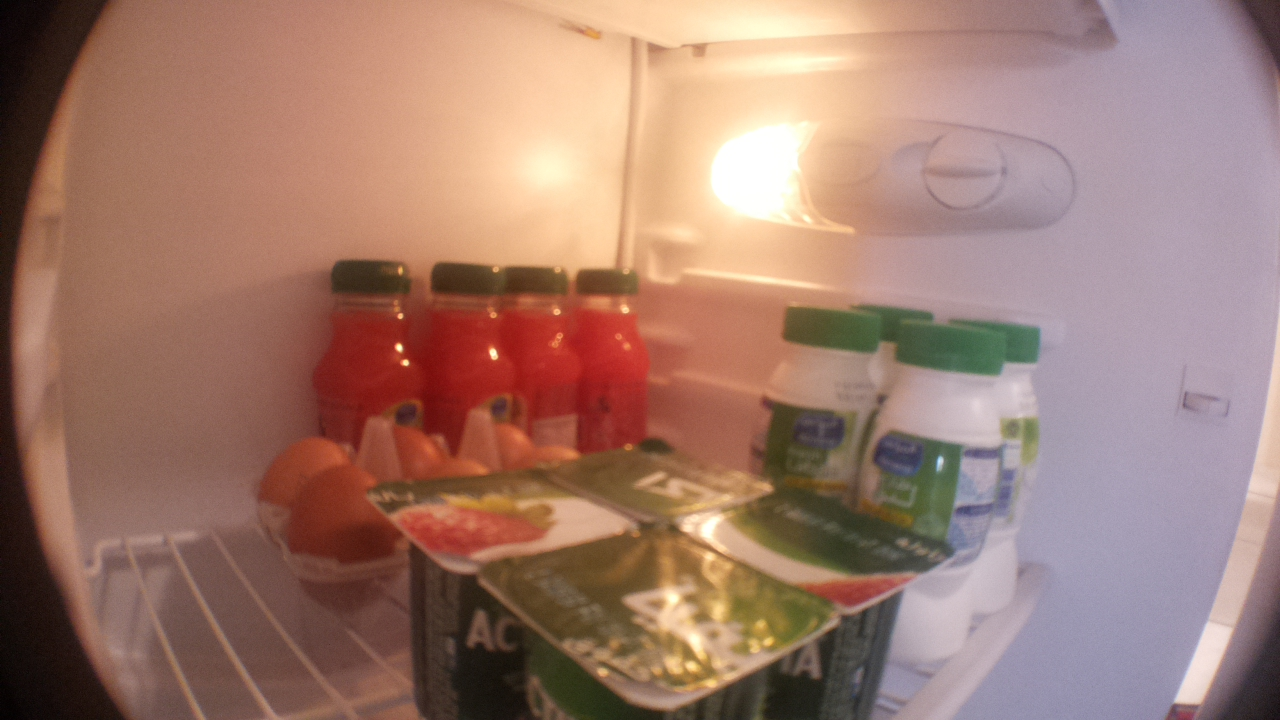egg: (284, 471, 402, 629), (258, 437, 344, 508), (372, 417, 443, 477), (484, 417, 547, 470)
juice: (303, 255, 420, 433), (417, 260, 509, 428), (505, 264, 581, 457), (574, 262, 648, 452)
laban: (866, 317, 1013, 691), (751, 302, 879, 513), (986, 316, 1051, 626)
yoghurt: (479, 524, 847, 720), (671, 481, 952, 720), (363, 464, 636, 698), (574, 425, 753, 514)
